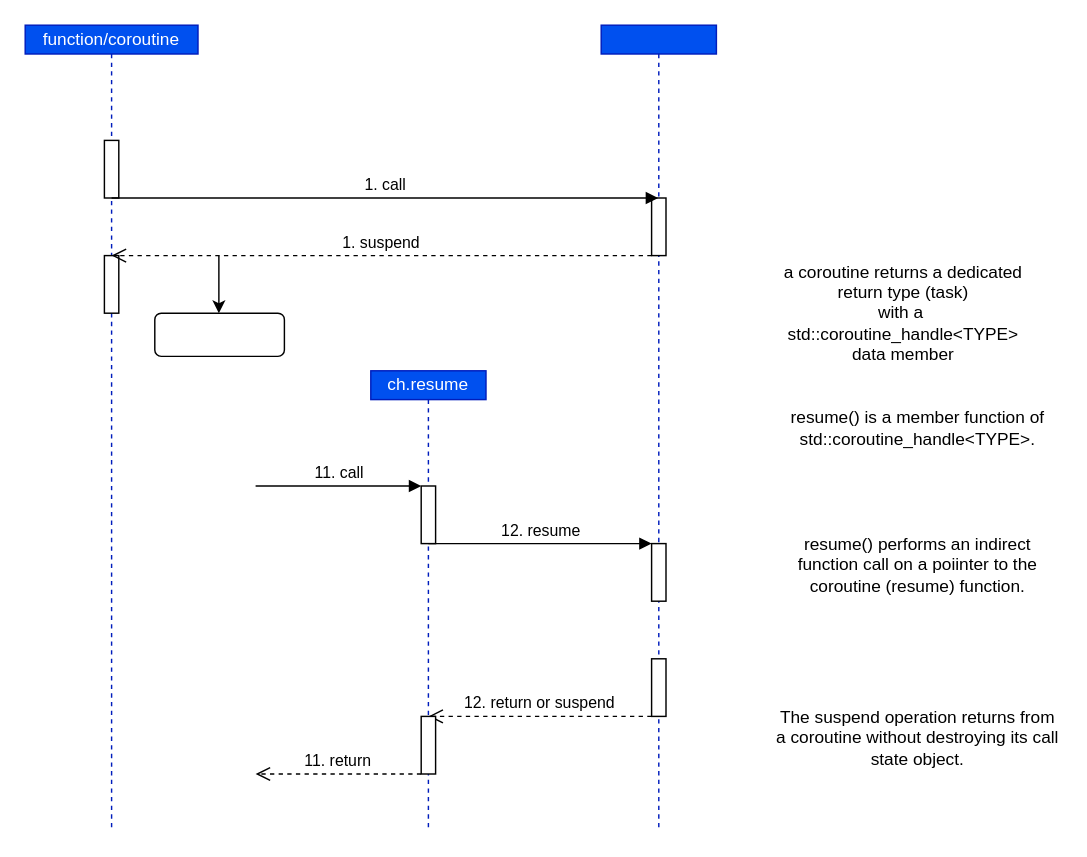
The diagram is 1087 pixels wide and 857 high, and some of its shapes have lost their labels. Each missing label, with the box of its shape:
coroutine: (600, 24, 716, 832)
task (with ch): (153, 312, 284, 356)
